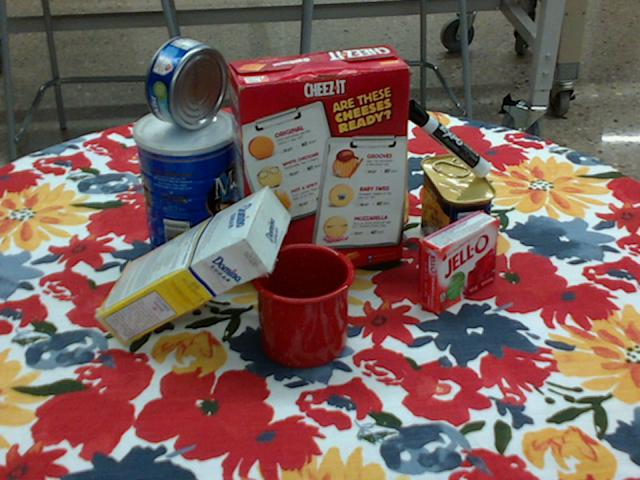cracker_box: (226, 45, 411, 284)
gelatin_box: (418, 210, 500, 314)
large_marker: (402, 99, 492, 177)
master_chef_can: (134, 106, 241, 273)
mug: (247, 240, 355, 368)
mustard_bottle: (354, 47, 409, 230)
potted_meat_can: (421, 154, 497, 269)
sugar_box: (91, 185, 290, 348)
tomato_soup_can: (269, 108, 331, 214)
tuna_fish_can: (144, 36, 226, 128)
